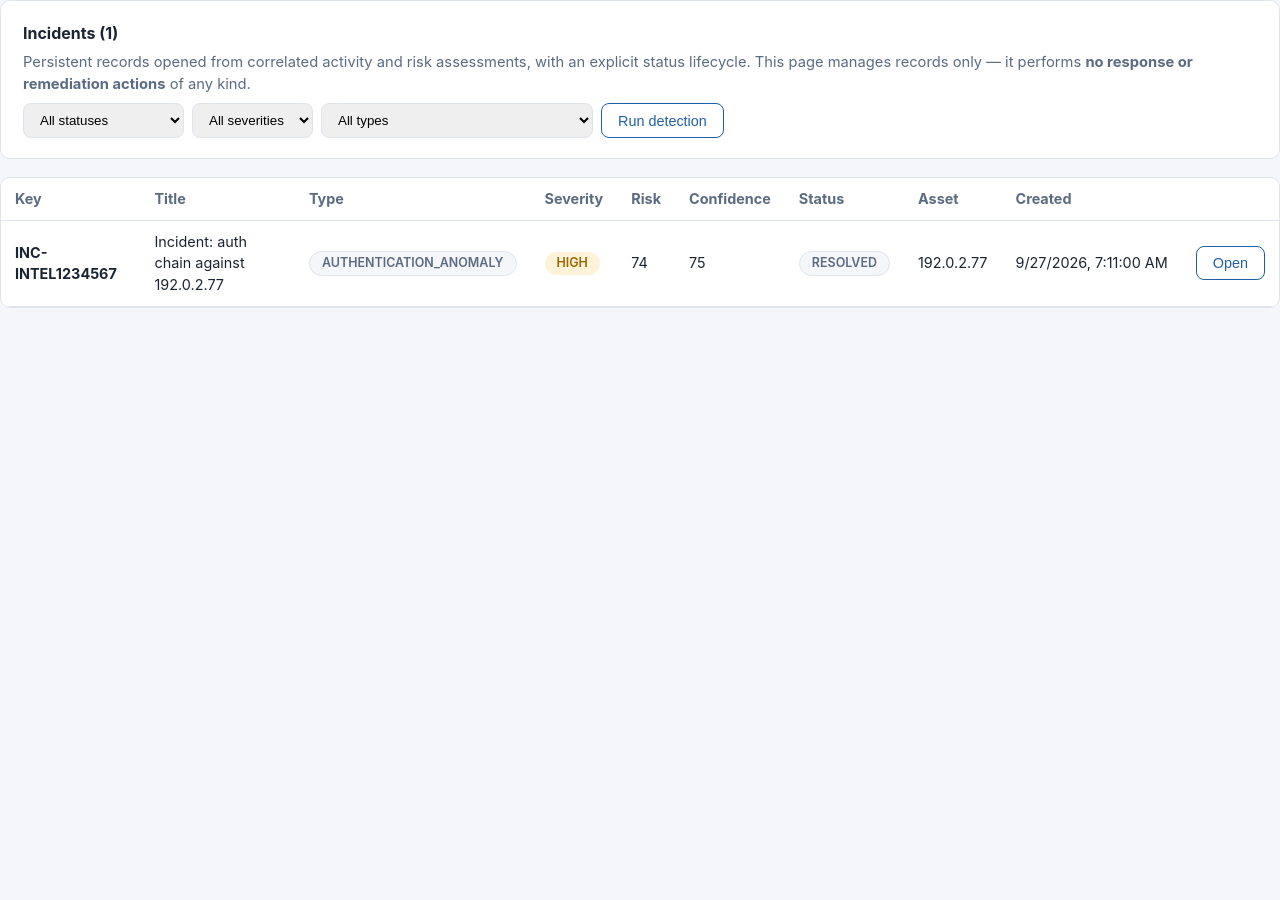
Test: Incident lifecycle hardening (Phase 3, Step 38) › shows exactly the permitted transitions for RESOLVED
The image size is (1280, 900).
What coordinates should you click on to do the following:
click the button "Open"
I would click on:
 (1230, 263)
Its box is [1196, 246, 1265, 280].
(page scrolled)
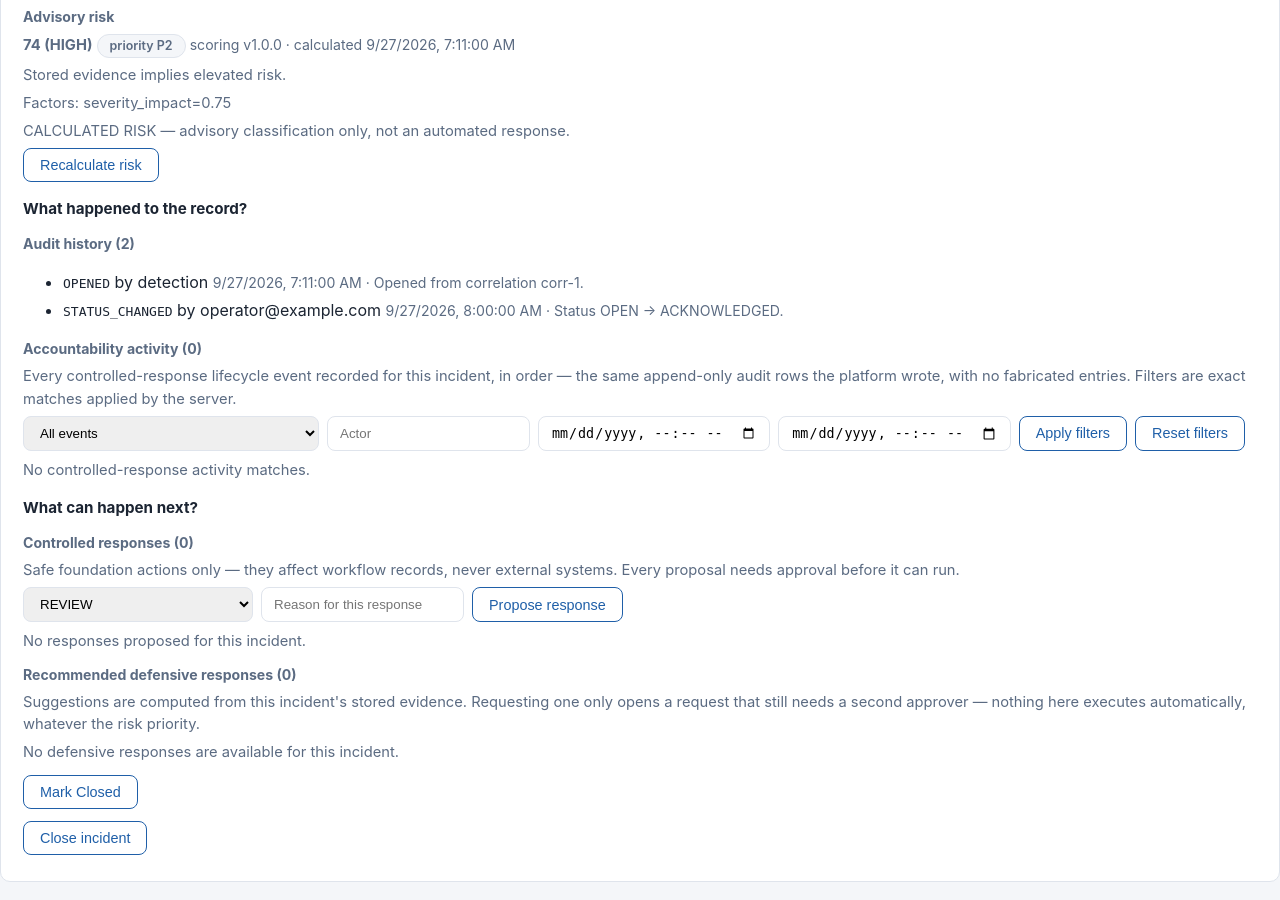
Expected: the button "Mark Closed" is shown, [23, 776, 138, 810]
